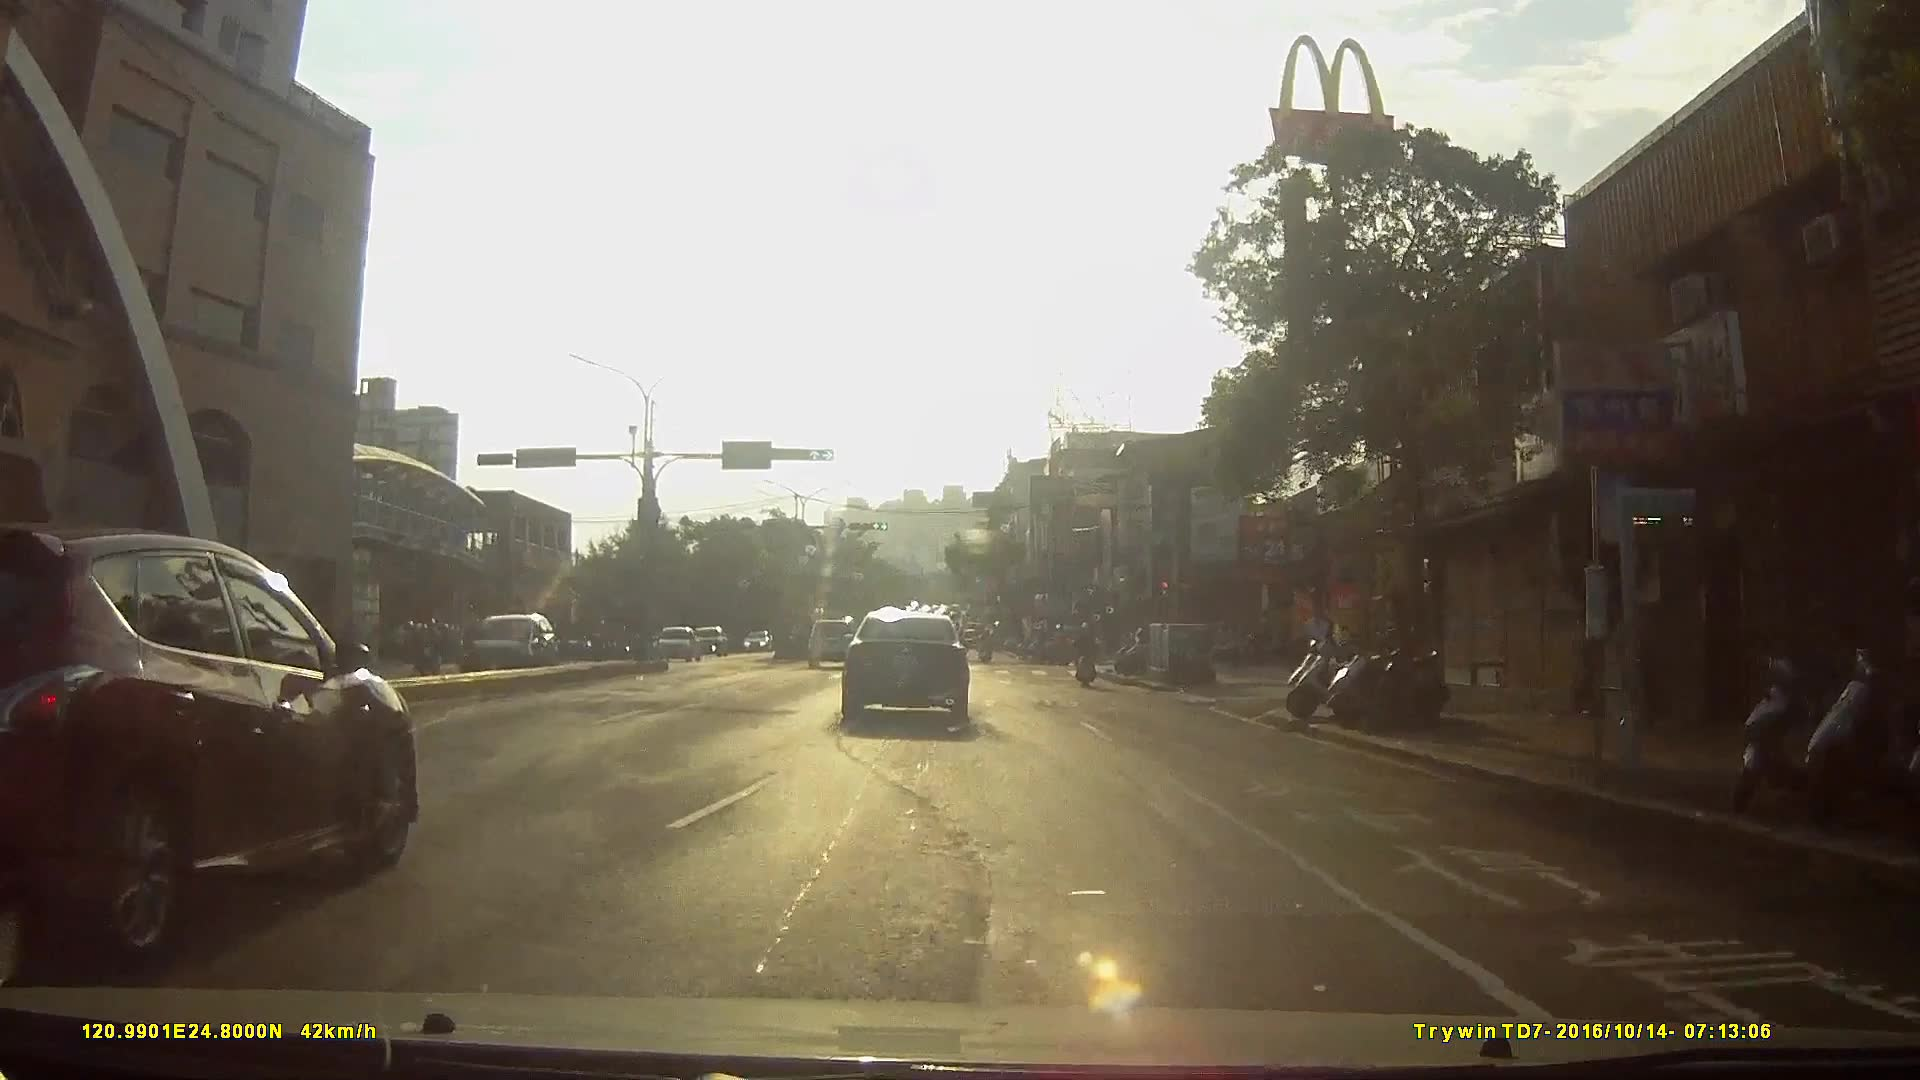rider: (1075, 622, 1101, 691), (1039, 627, 1076, 668), (976, 627, 998, 666)
vehicle: (1, 520, 431, 974), (838, 610, 987, 732), (450, 614, 562, 688), (803, 616, 861, 671), (650, 625, 702, 670), (688, 627, 732, 658), (741, 629, 775, 655)
